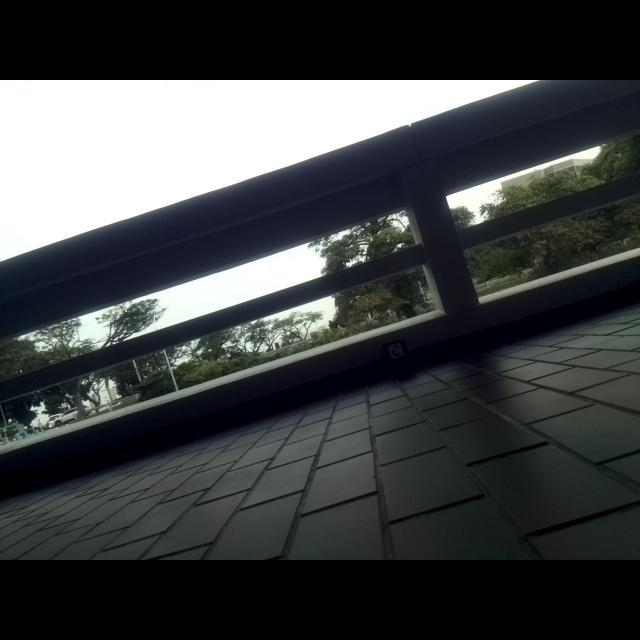C: (392, 344, 401, 357)
